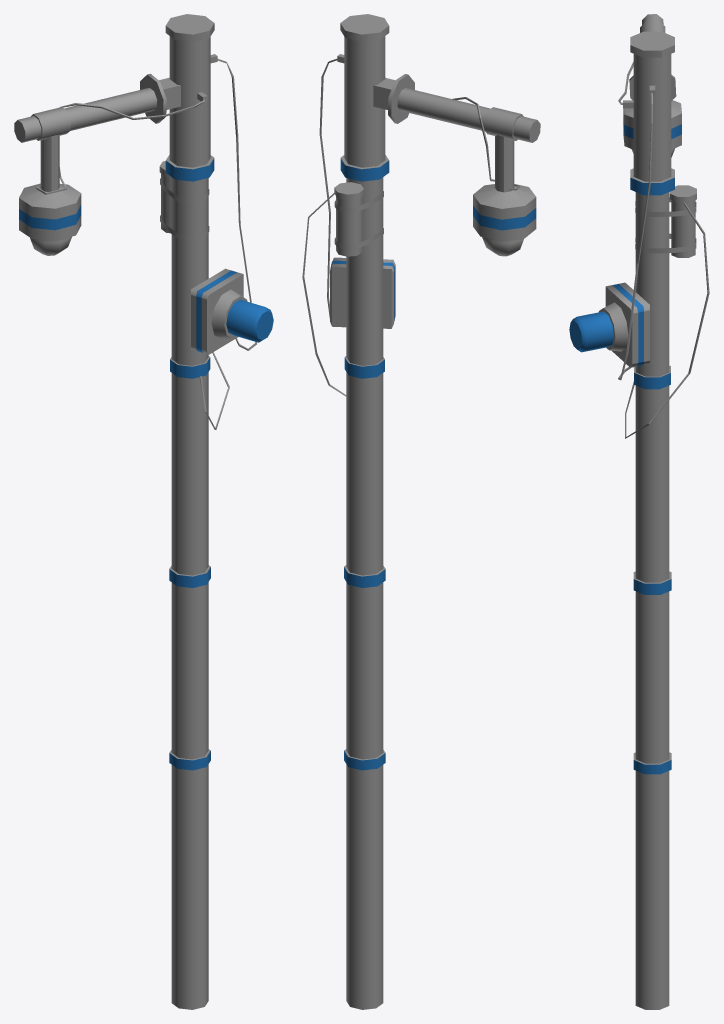
File: CCTVpole.fbx
3 views of the same model, side by side, from view 1: azimuth 30°, elevation 25°; view 2: azimuth 150°, elevation 25°; view 3: azimuth 270°, elevation 25° (orthographic).
Visible parts, largest first — view 1: CCTVpole; view 2: CCTVpole; view 3: CCTVpole.
Boxes of the visible parts, <box> form: CCTVpole: <box>14,14,273,1009</box>; CCTVpole: <box>302,14,540,1009</box>; CCTVpole: <box>569,14,709,1009</box>.
Size of the model in its own units: 1.3 by 5.51 by 0.7282.
